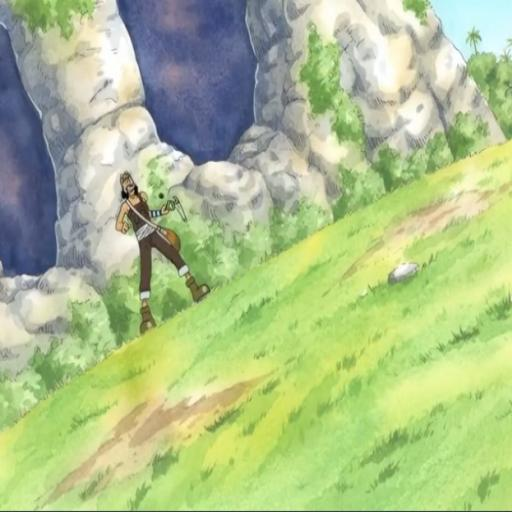Usopp: (105, 158, 204, 344)
